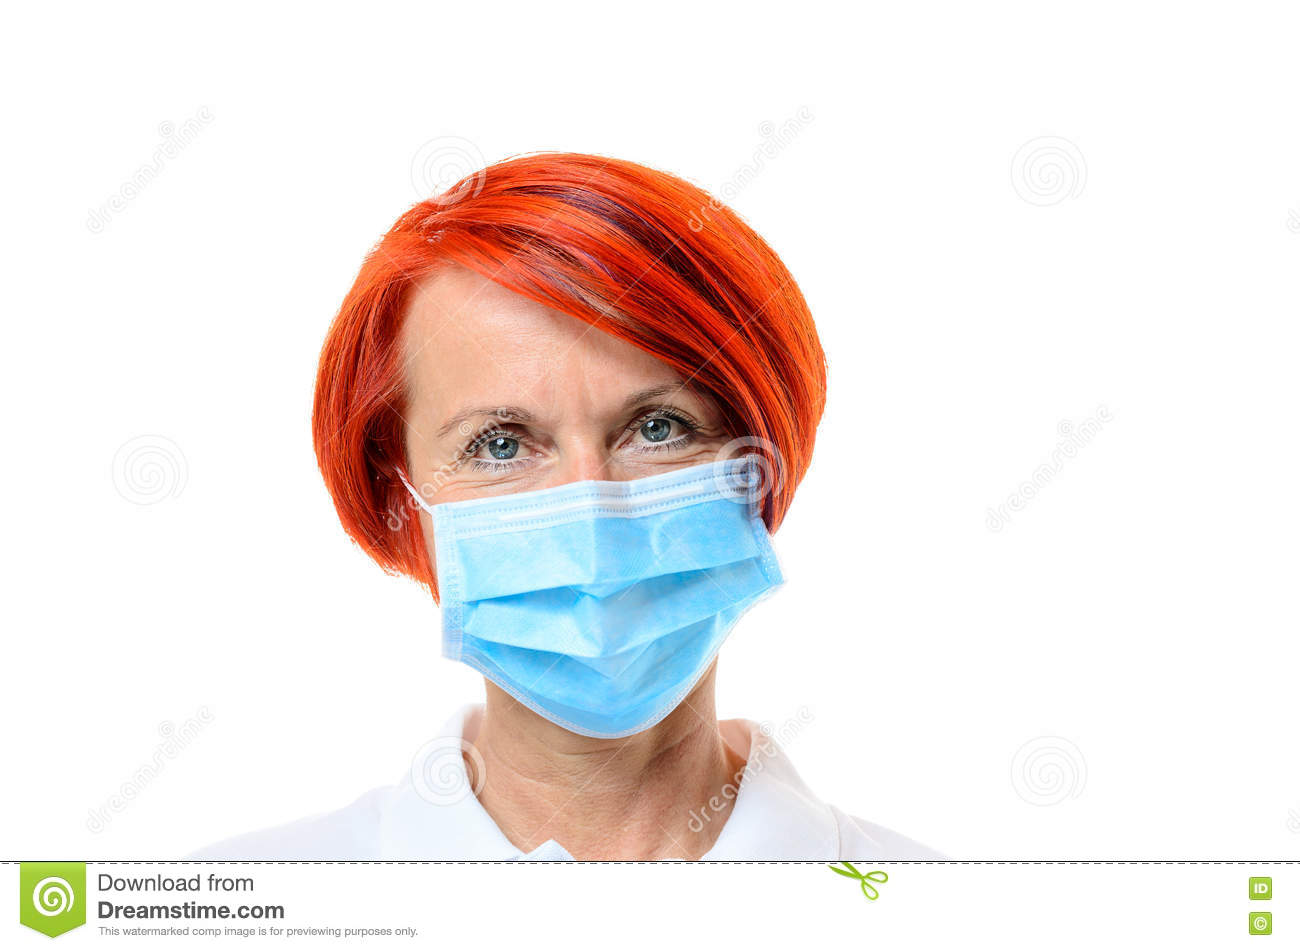mask: (424, 489, 786, 699)
